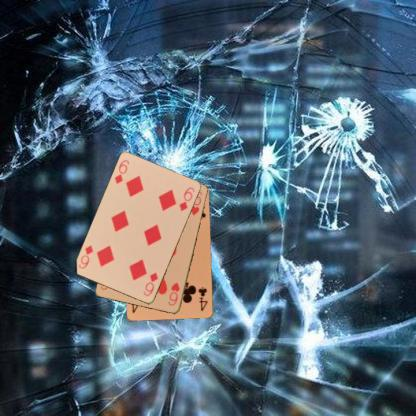4c: (196, 284, 209, 313)
6d: (112, 157, 131, 186), (141, 270, 159, 297)
6h: (166, 280, 181, 307)
